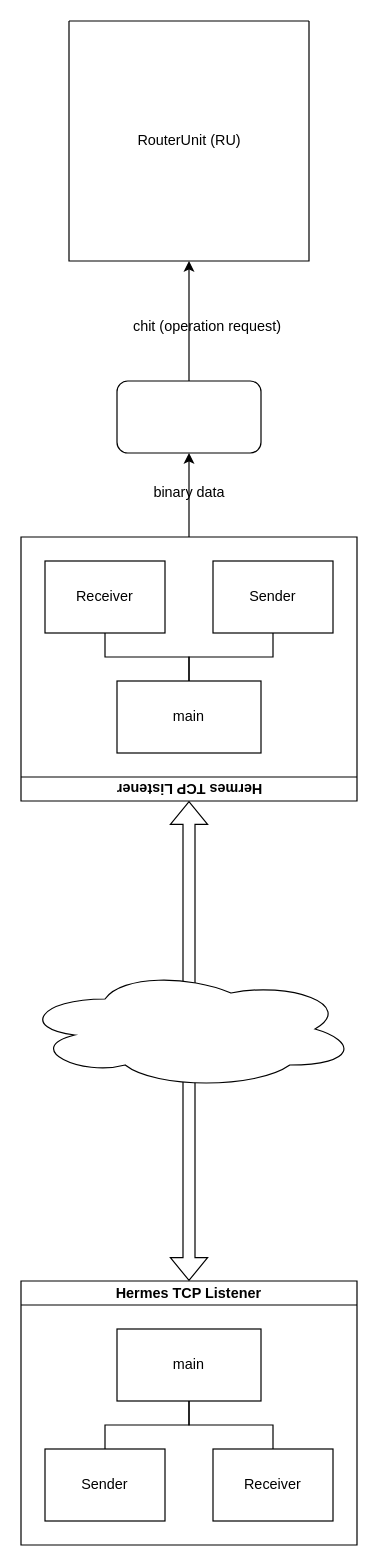
The diagram is 378 pixels wide and 1566 high, and some of its shapes have lost their labels. Here are the shapes that lost their labels. From the top down, the centre of each, then its label:
At (x=188, y=416): "Parser".
At (x=188, y=1028): "Custom Protocol Yet to Define".
